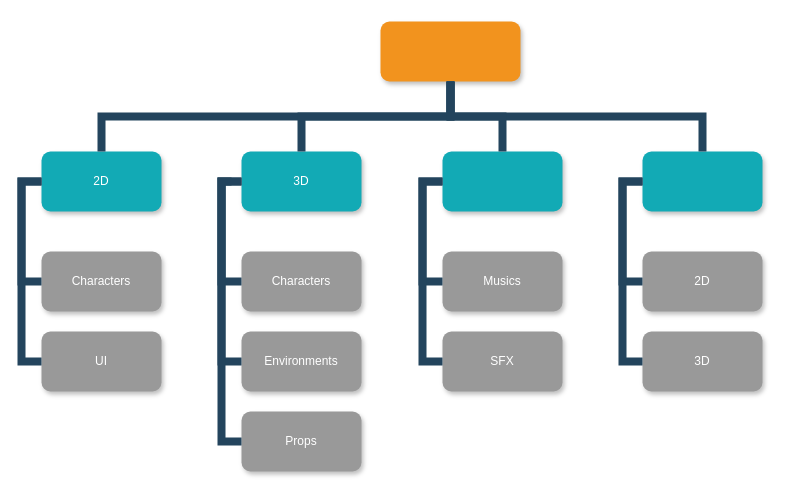
Image size: 785x495. Some labels were removed from this diagram. The centre of each missing label's shape, as x and y in pixels:
Arts: point 451,52
Effects: point 703,182
Sounds: point 503,182
